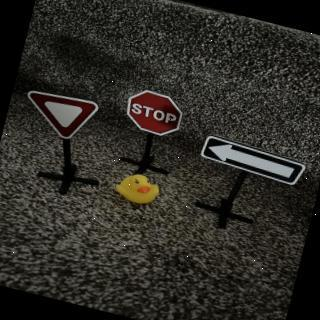duck_regular: (114, 170, 163, 210)
sign_oneway_left: (199, 135, 309, 190)
sign_stop: (121, 88, 188, 144)
sign_yield: (20, 86, 101, 146)
